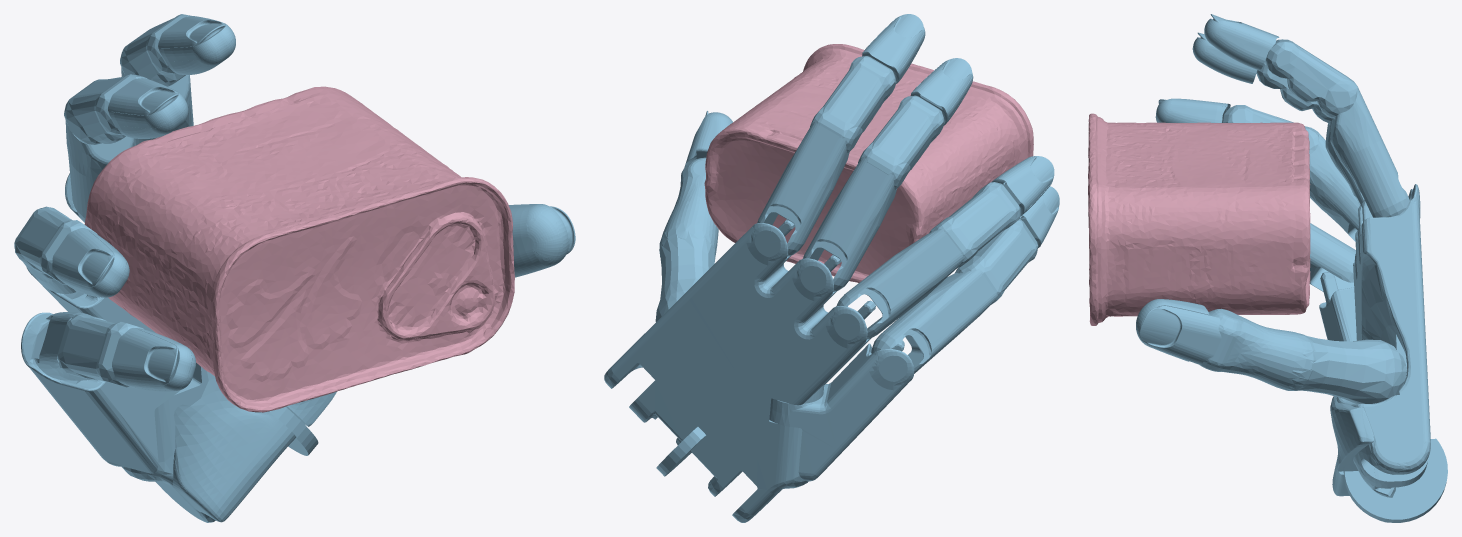
The picture shows the model from 3 angles, left to right: view 1: azimuth 30°, elevation 25°; view 2: azimuth 150°, elevation 25°; view 3: azimuth 270°, elevation 25°; orthographic projection. The views are drawn at different scales.
Visible parts, largest first — view 1: potted_meat_can.stl, world; view 2: world, potted_meat_can.stl; view 3: world, potted_meat_can.stl.
Part boxes in pixels (x1,y1,x2,y2): potted_meat_can.stl: (84,86,514,412); world: (14,14,575,522); world: (604,14,1059,522); potted_meat_can.stl: (704,44,1033,282); world: (1136,14,1447,522); potted_meat_can.stl: (1088,113,1310,325).
Bounding box in the file's own units: 0.1587 × 0.1942 × 0.1352.
